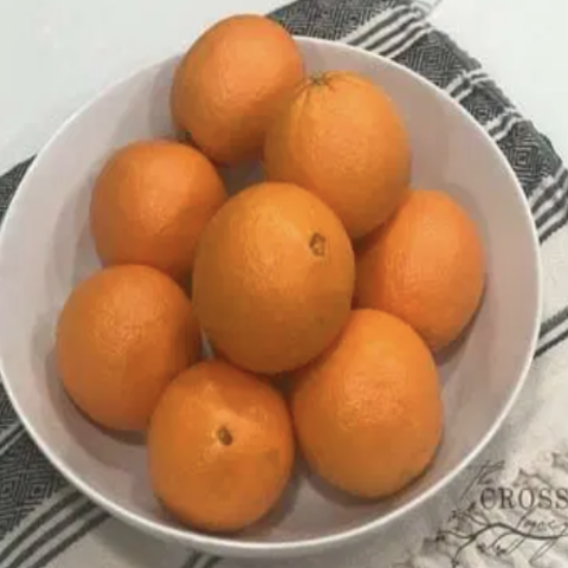orange: (187, 177, 361, 372), (324, 170, 515, 342), (283, 299, 443, 501), (138, 339, 294, 535), (31, 258, 205, 429), (165, 6, 315, 157)
